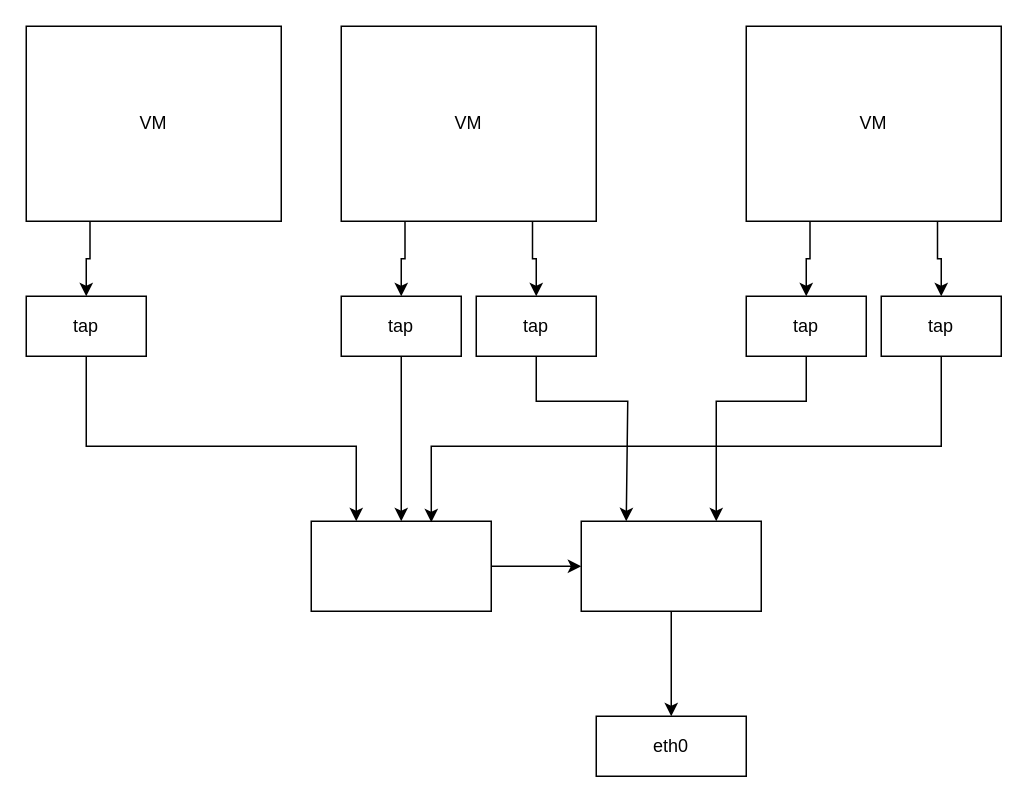
This 1028x803 diagram has some shape labels left out. Each missing label, with the centre of its shape:
Bridge default network: the point at 670,565
Bridge vpc network: the point at 400,565
